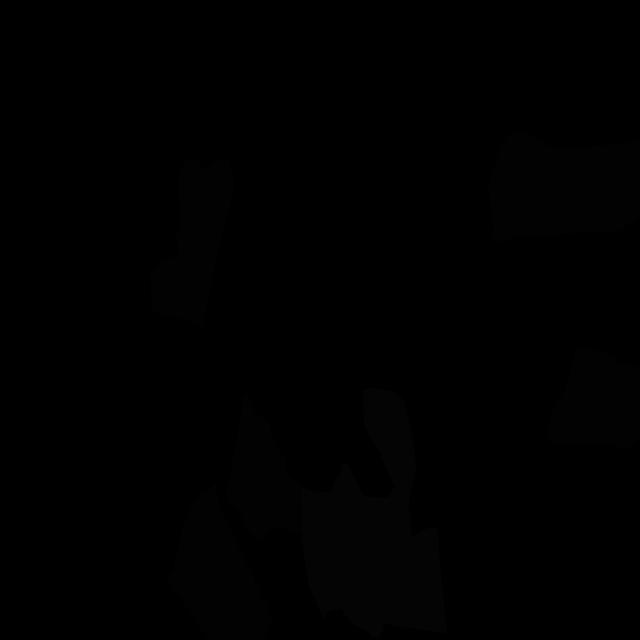cardboard: (488, 131, 640, 242), (168, 483, 274, 640), (150, 158, 234, 326), (225, 393, 303, 541), (548, 347, 640, 449)
soft_plastic: (301, 387, 447, 637)
